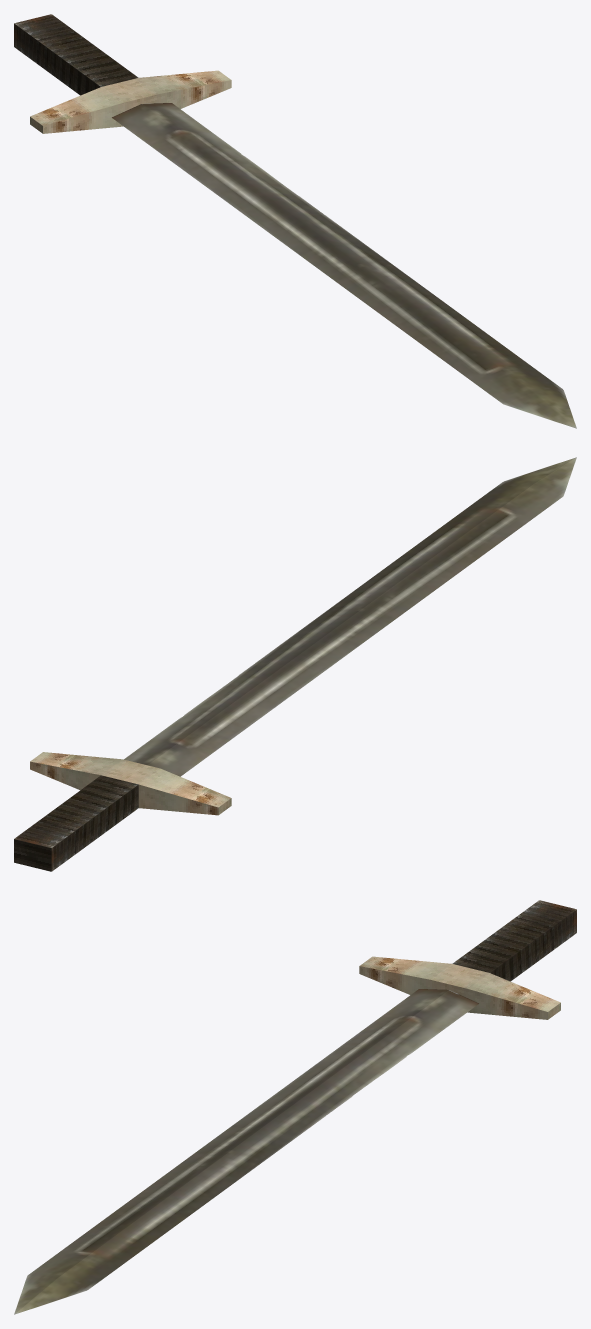
The model's file is sword_normal_b.fbx.
The picture shows the model from 3 angles, top to bottom: view 1: azimuth 30°, elevation 25°; view 2: azimuth 150°, elevation 25°; view 3: azimuth 330°, elevation 25°; orthographic projection.
Visible parts, largest first — view 1: sword_normal_b; view 2: sword_normal_b; view 3: sword_normal_b.
Boxes of the visible parts, x1,y1,x2,y2 form: sword_normal_b: (14,14,576,428); sword_normal_b: (14,457,576,871); sword_normal_b: (14,900,576,1314).
Bounding box in the file's own units: 25 × 3 × 125.
